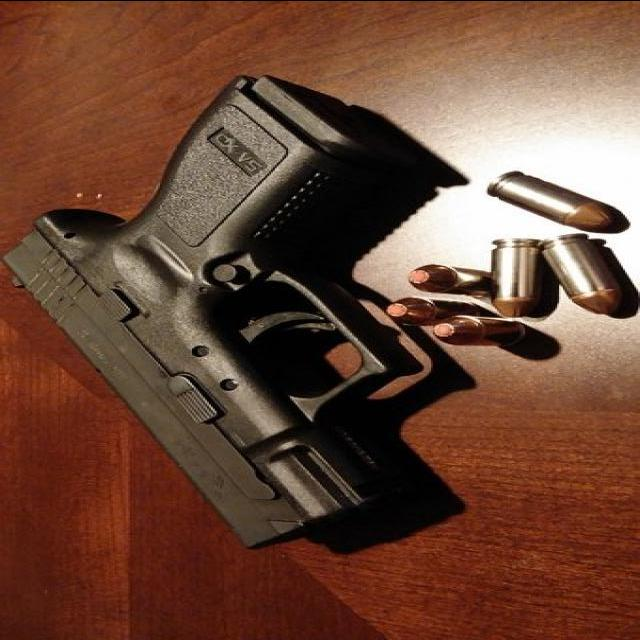pistol: (5, 76, 431, 559)
